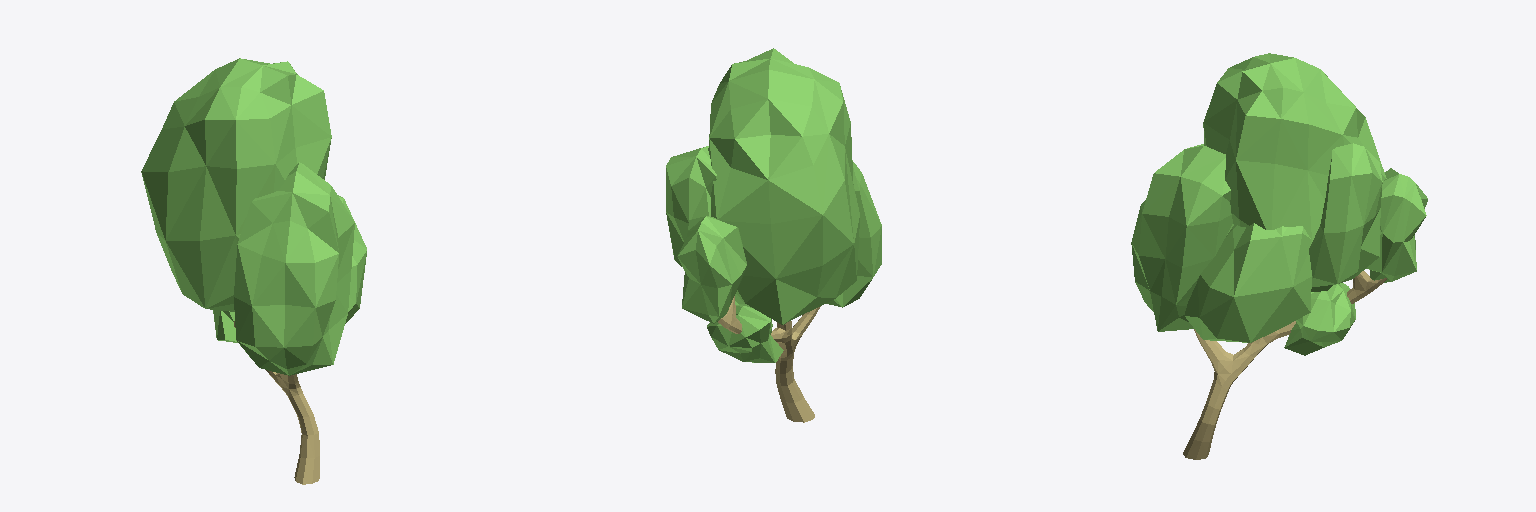
File: tree.obj
The picture shows the model from 3 angles: view 1: azimuth 30°, elevation 25°; view 2: azimuth 150°, elevation 25°; view 3: azimuth 270°, elevation 25°; orthographic projection.
Bounding box in the file's own units: 170 × 357 × 248.